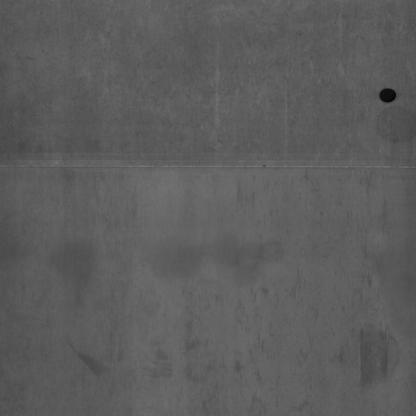punching_hole: (376, 82, 398, 108)
rolled_pit: (356, 319, 392, 386)
welding_line: (2, 148, 416, 178)
